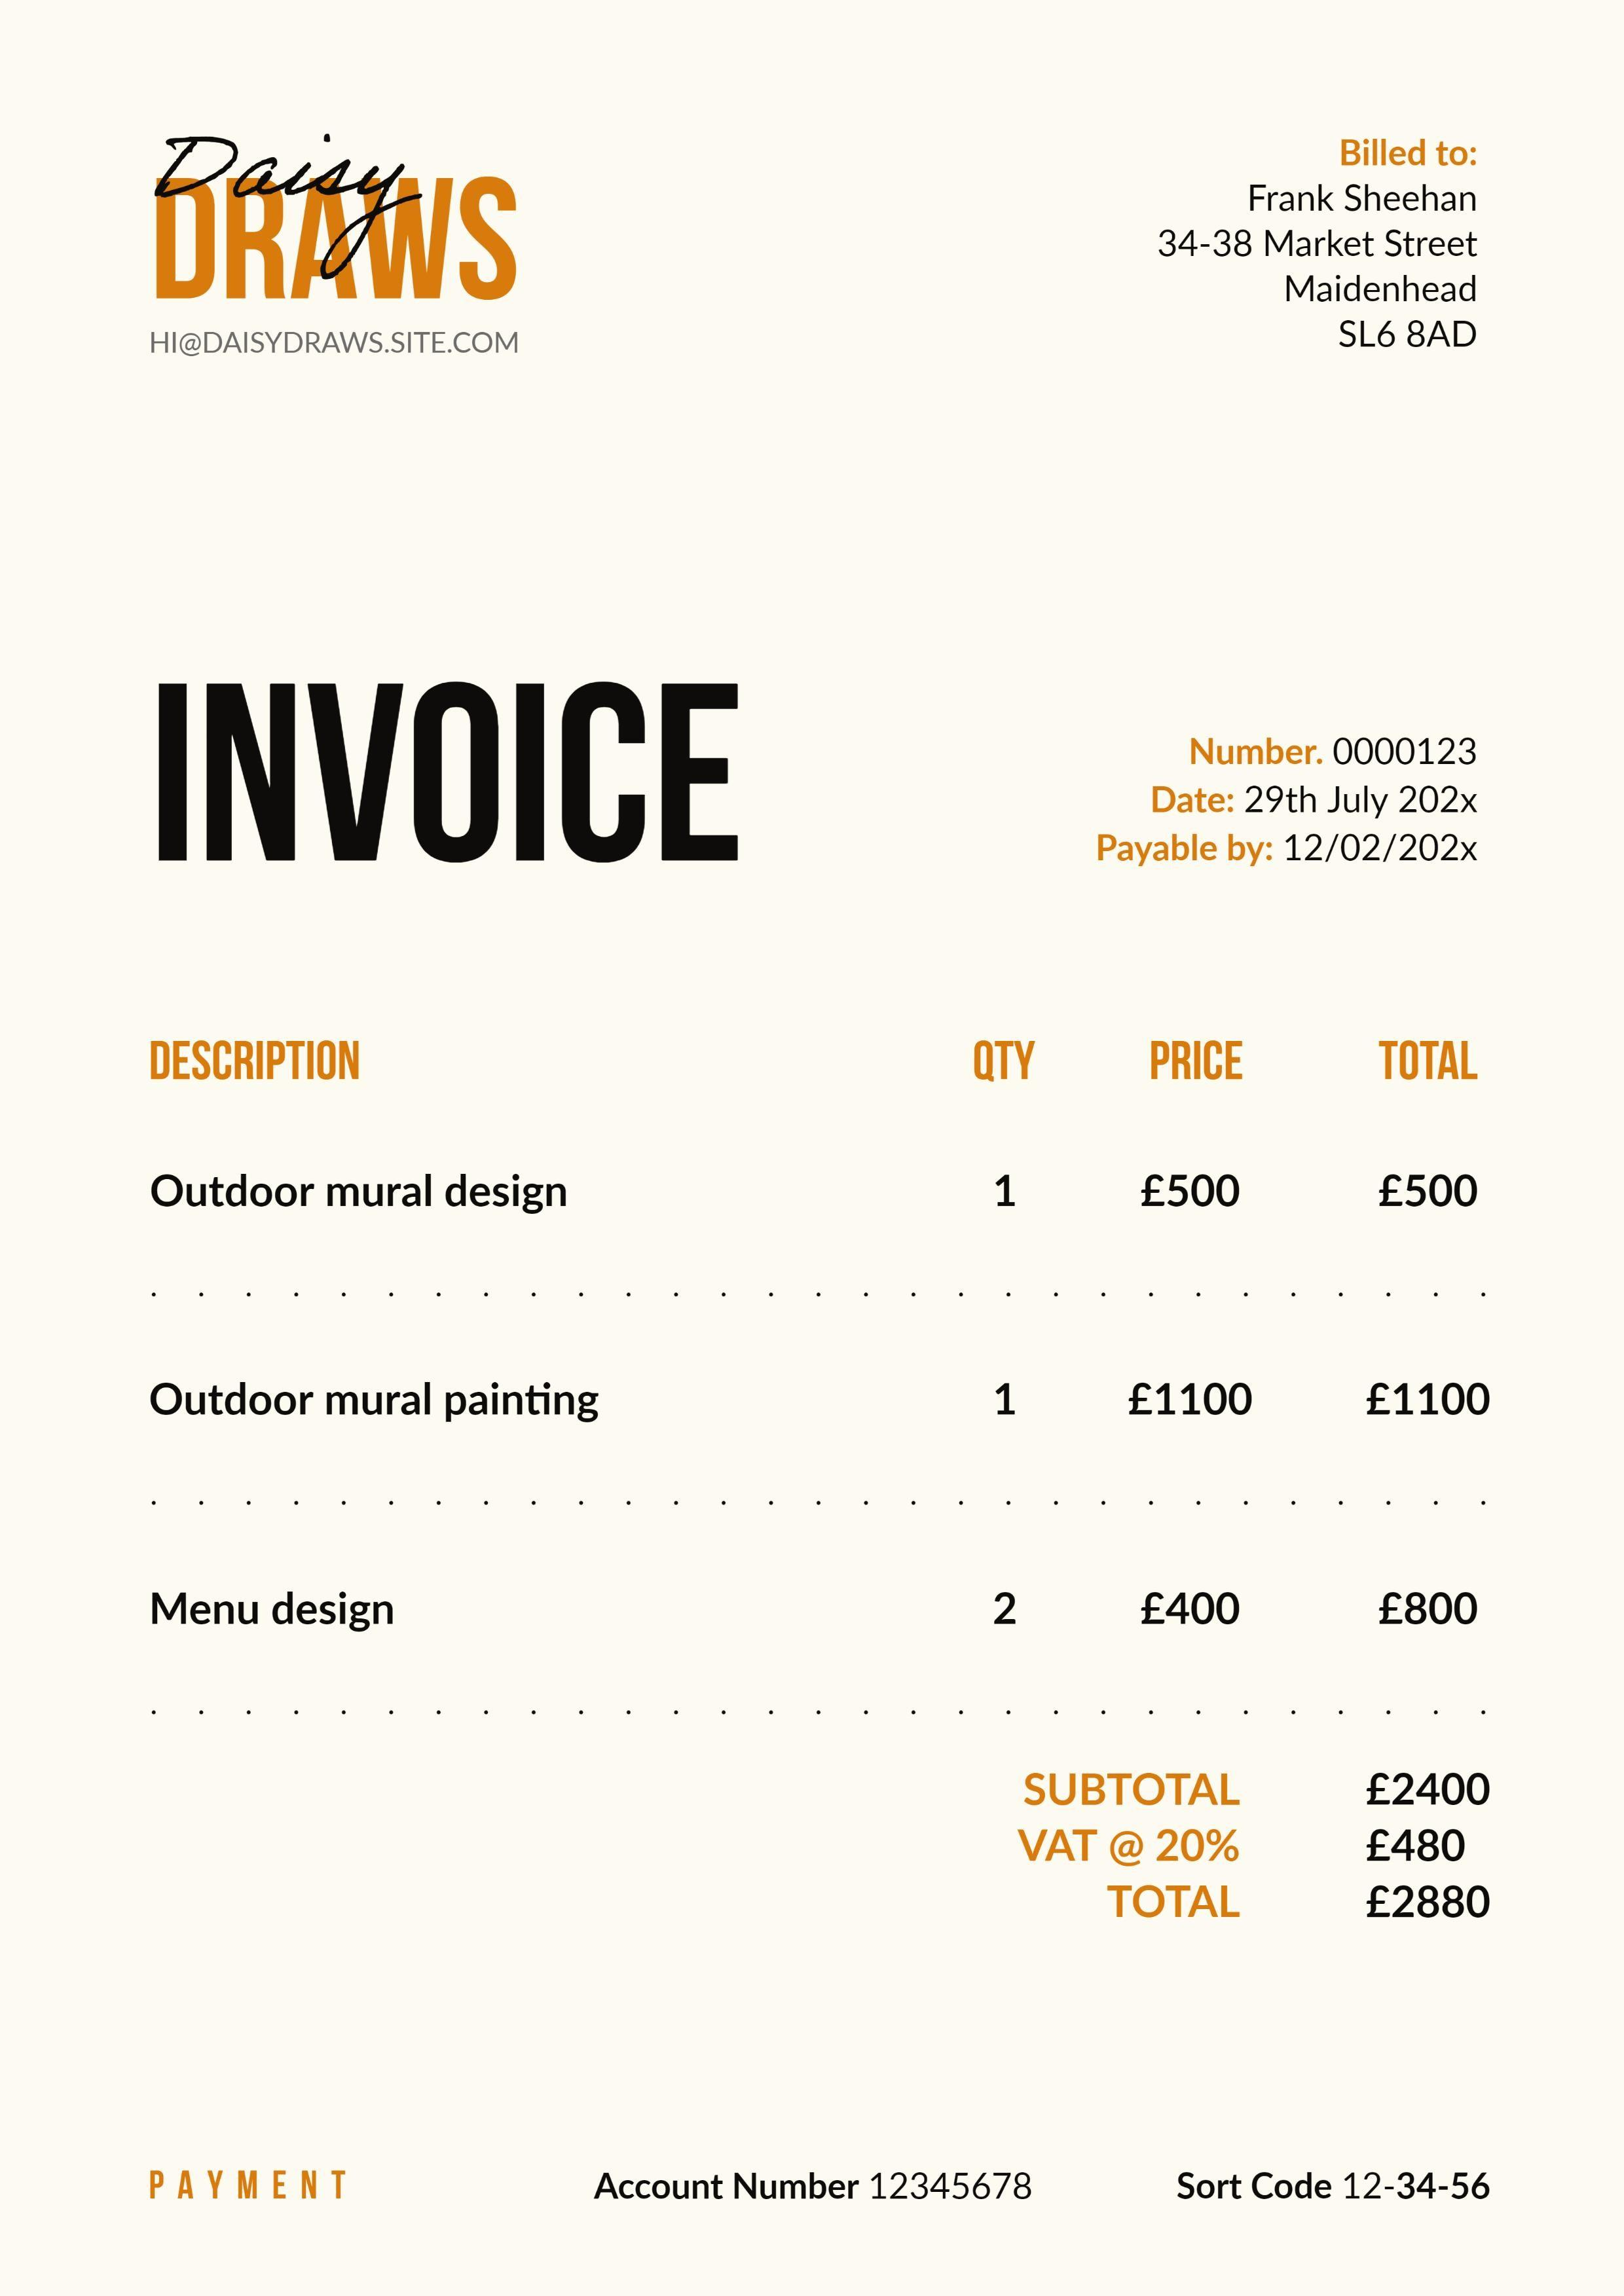ROI: (139, 1031, 1506, 1648), (146, 123, 529, 385), (1132, 112, 1503, 371), (995, 1757, 1506, 1938), (134, 2161, 1508, 2210), (1084, 726, 1499, 877)
